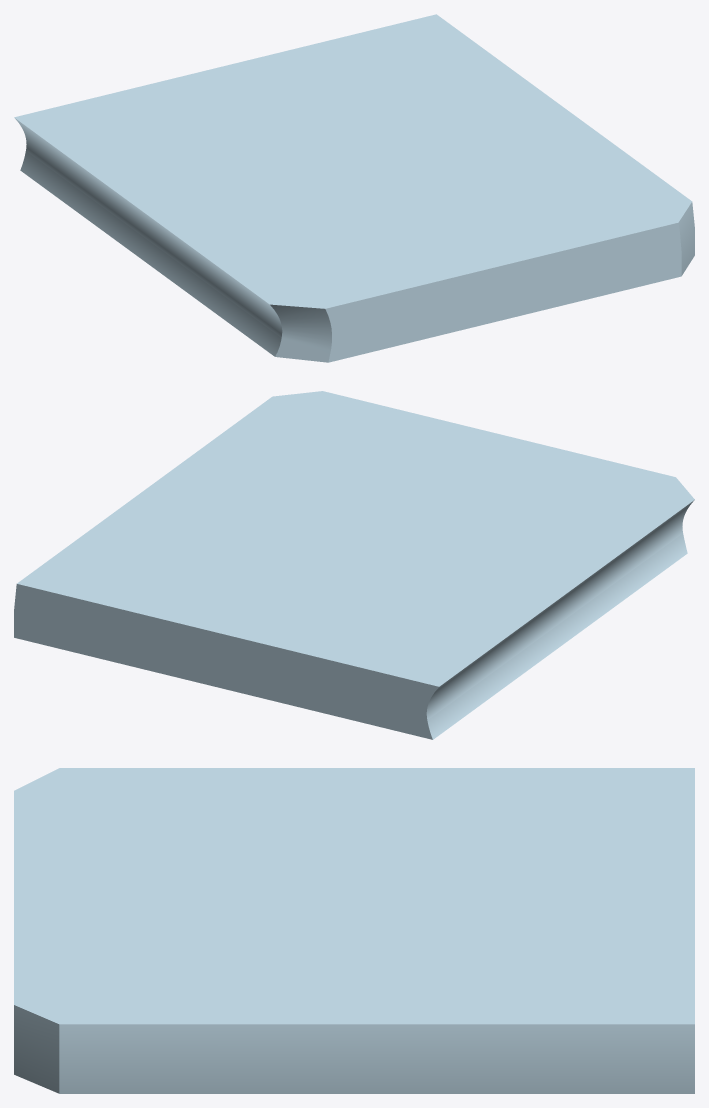
File: STAM - S1-0.gltf
The picture shows the model from 3 angles, top to bottom: view 1: azimuth 30°, elevation 25°; view 2: azimuth 150°, elevation 25°; view 3: azimuth 270°, elevation 25°; orthographic projection. The views are drawn at different scales.
Parts seen in each view (by area): view 1: S1-0; view 2: S1-0; view 3: S1-0.
Part boxes in pixels (x1=…): S1-0: x1=14, y1=14, x2=694, y2=362; S1-0: x1=14, y1=391, x2=694, y2=739; S1-0: x1=14, y1=768, x2=694, y2=1093.
Size of the model in its own units: 0.0134 by 0.00165 by 0.015.
